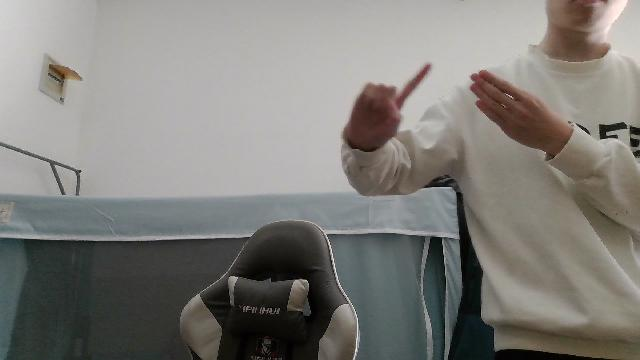four: (468, 67, 570, 143)
one: (342, 62, 435, 147)
